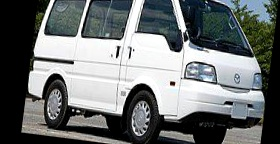van: (23, 0, 275, 144)
